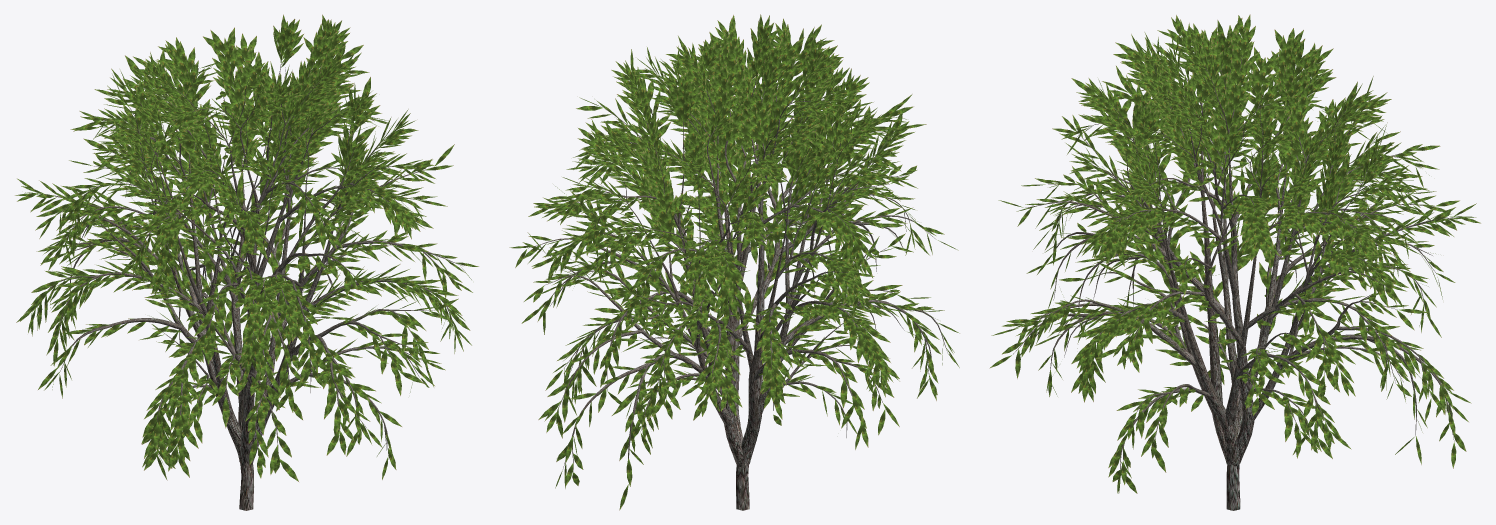
Rendered from Tree.glb.
3 renders of one model, left to right at view 1: azimuth 30°, elevation 25°; view 2: azimuth 150°, elevation 25°; view 3: azimuth 270°, elevation 25°, orthographic. The views are drawn at different scales.
Visible parts, largest first — view 1: leaves, tree; view 2: leaves, tree; view 3: leaves, tree.
Part boxes in pixels (x1,y1,x2,y2): leaves: [15, 14, 478, 481]; tree: [32, 55, 462, 510]; leaves: [509, 14, 959, 510]; tree: [528, 39, 947, 510]; leaves: [989, 14, 1480, 493]; tree: [1013, 53, 1454, 510].
Bounding box in the file's own units: 21.78 × 26.95 × 25.
2 materials, 2 textured.
